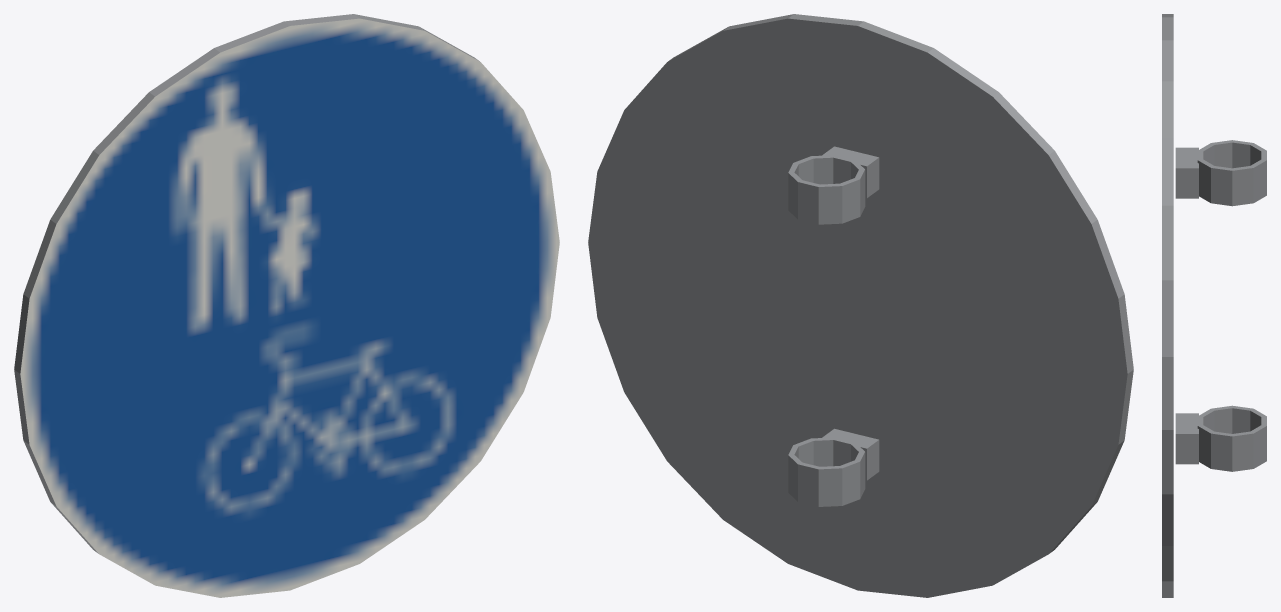
Rendered from SM_Street_Sign_BikePed_High_01.fbx.
The picture shows the model from 3 angles, left to right: view 1: azimuth 30°, elevation 25°; view 2: azimuth 150°, elevation 25°; view 3: azimuth 270°, elevation 25°; orthographic projection. The views are drawn at different scales.
Parts seen in each view (by area): view 1: SM_Street_Sign_BikePed_High_01; view 2: SM_Street_Sign_BikePed_High_01; view 3: SM_Street_Sign_BikePed_High_01.
Part boxes in pixels (x1=…): SM_Street_Sign_BikePed_High_01: x1=14, y1=14, x2=559, y2=597; SM_Street_Sign_BikePed_High_01: x1=588, y1=14, x2=1133, y2=597; SM_Street_Sign_BikePed_High_01: x1=1162, y1=14, x2=1266, y2=597.
Size of the model in its own units: 0.6 by 0.6 by 0.1074.
Materials: 1 (1 with a texture image).
